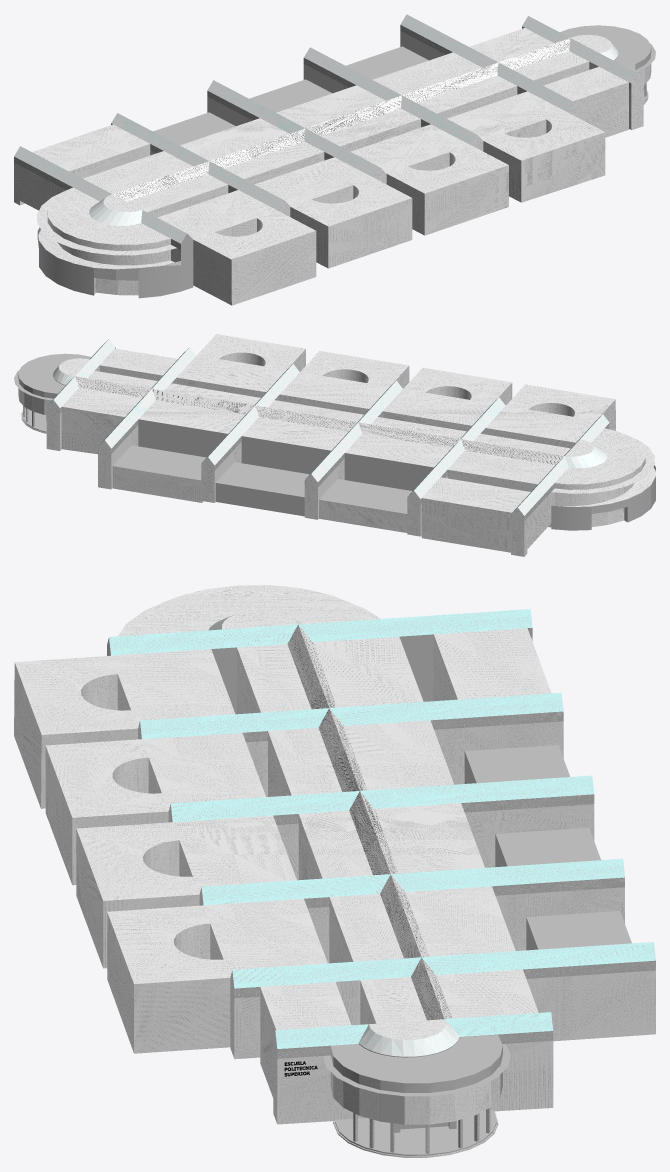
Rendered from edificio.obj.
The picture shows the model from 3 angles, top to bottom: view 1: azimuth 30°, elevation 25°; view 2: azimuth 150°, elevation 25°; view 3: azimuth 270°, elevation 25°; orthographic projection. The views are drawn at different scales.
Parts seen in each view (by area): view 1: SketchUp.025_ID417, SketchUp.433_ID2004, SketchUp.431_ID1990, SketchUp.287_ID793, SketchUp.028_ID451, SketchUp.027_ID443, SketchUp.026_ID430, SketchUp.022_ID385, SketchUp.294_ID847, SketchUp.430_ID1977, SketchUp.056_ID717, SketchUp.317_ID1044 (+50 smaller); view 2: SketchUp.362_ID1419, SketchUp.287_ID793, SketchUp.433_ID2004, SketchUp.431_ID1990, SketchUp.031_ID478, SketchUp.022_ID385, SketchUp.294_ID847, SketchUp.430_ID1977, SketchUp.317_ID1044, SketchUp.345_ID1277, SketchUp.318_ID1052, SketchUp.311_ID998 (+51 smaller); view 3: SketchUp.433_ID2004, SketchUp.431_ID1990, SketchUp.028_ID451, SketchUp.042_ID582, SketchUp.047_ID620, SketchUp.040_ID566, SketchUp.287_ID793, SketchUp.348_ID1304, SketchUp.294_ID847, SketchUp.022_ID385, SketchUp.430_ID1977, SketchUp.322_ID1087 (+58 smaller).
Part boxes in pixels (x1,y1,x2,y2): SketchUp.025_ID417: (193, 231, 316, 305); SketchUp.433_ID2004: (350, 124, 507, 193); SketchUp.431_ID1990: (447, 91, 604, 160); SketchUp.287_ID793: (112, 62, 498, 201); SketchUp.028_ID451: (483, 132, 605, 202); SketchUp.027_ID443: (386, 165, 508, 235); SketchUp.026_ID430: (290, 198, 412, 268); SketchUp.022_ID385: (47, 187, 170, 244); SketchUp.294_ID847: (157, 190, 277, 239); SketchUp.430_ID1977: (254, 157, 373, 206); SketchUp.056_ID717: (14, 146, 186, 243); SketchUp.317_ID1044: (32, 124, 149, 171); SketchUp.362_ID1419: (138, 419, 433, 490); SketchUp.287_ID793: (152, 389, 564, 465); SketchUp.433_ID2004: (280, 351, 408, 408); SketchUp.431_ID1990: (177, 334, 305, 391); SketchUp.031_ID478: (421, 498, 511, 552); SketchUp.022_ID385: (555, 428, 645, 484); SketchUp.294_ID847: (486, 406, 595, 442); SketchUp.430_ID1977: (383, 389, 491, 425); SketchUp.317_ID1044: (422, 477, 530, 512); SketchUp.345_ID1277: (112, 466, 201, 502); SketchUp.318_ID1052: (448, 450, 554, 484); SketchUp.311_ID998: (61, 407, 124, 454); SketchUp.433_ID2004: (76, 815, 296, 900); SketchUp.431_ID1990: (107, 898, 327, 983); SketchUp.028_ID451: (107, 913, 230, 1053); SketchUp.042_ID582: (140, 692, 563, 739); SketchUp.047_ID620: (232, 942, 655, 988); SketchUp.040_ID566: (170, 775, 594, 822); SketchUp.287_ID793: (287, 624, 429, 958); SketchUp.348_ID1304: (277, 1040, 553, 1124); SketchUp.294_ID847: (111, 649, 235, 727); SketchUp.022_ID385: (131, 585, 373, 635); SketchUp.430_ID1977: (142, 733, 265, 810); SketchUp.322_ID1087: (557, 970, 655, 1040).
Size of the model in its own units: 163 by 14.21 by 87.01.
